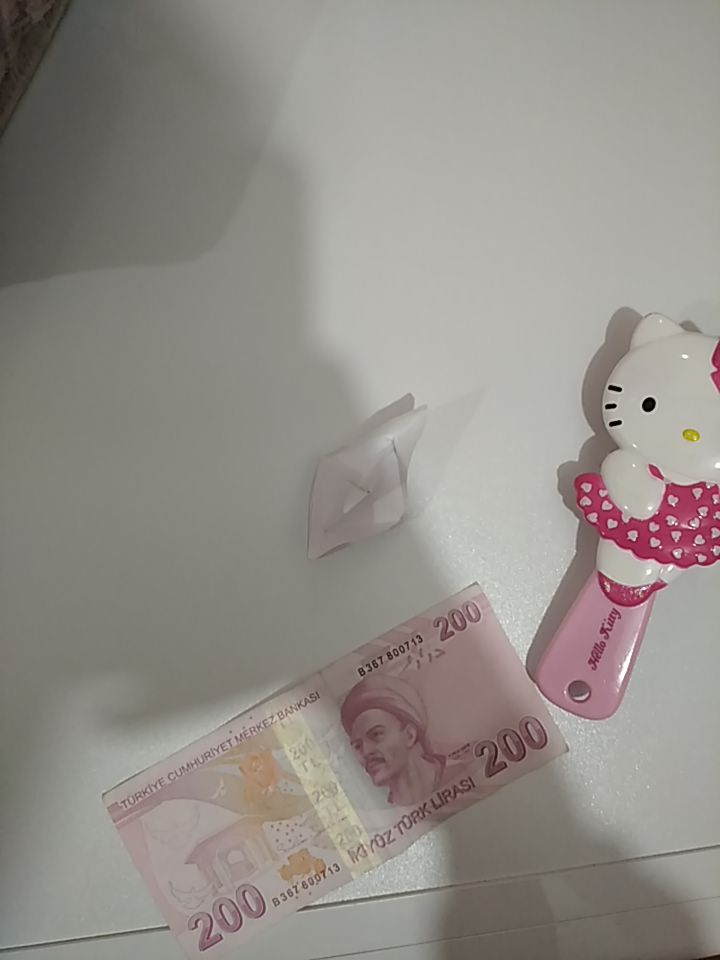200TL: (96, 579, 571, 956)
